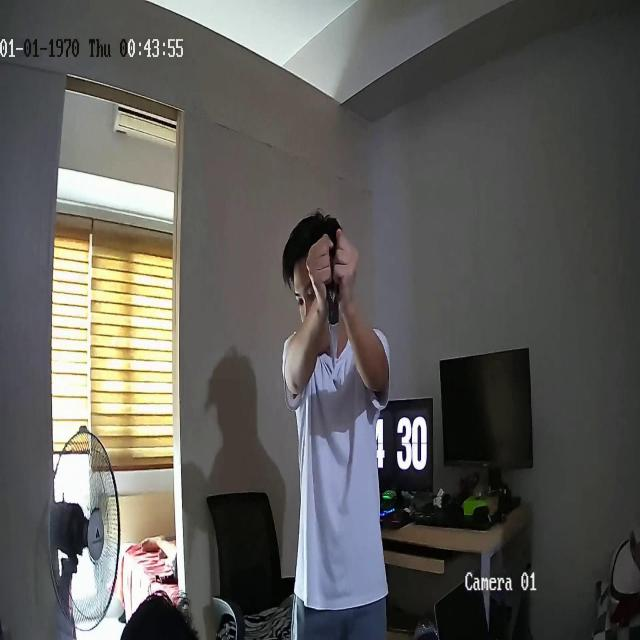scissor: (325, 245, 341, 371)
